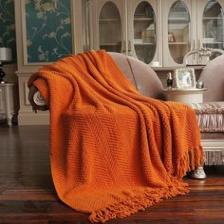orange: (28, 51, 204, 223)
